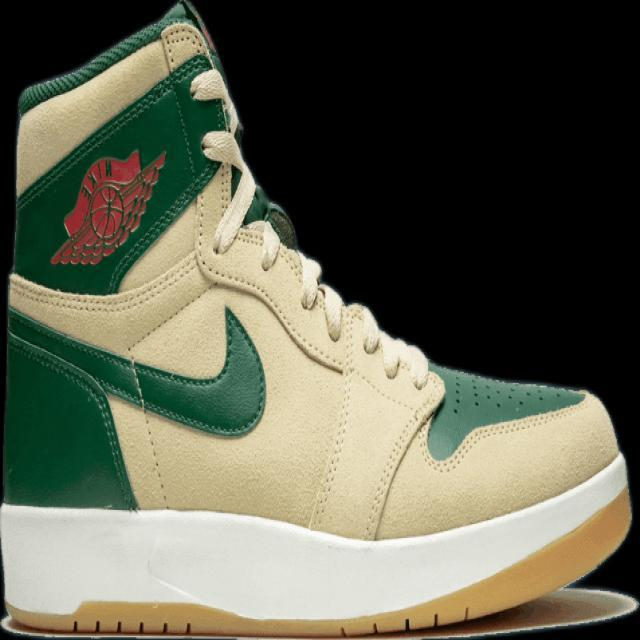J1_InsoleChar: (2, 1, 633, 637)
J1_ShoeLogo: (49, 146, 167, 267)
J1_StitchPattern: (10, 207, 589, 536), (155, 19, 429, 543), (200, 217, 430, 388), (304, 291, 438, 536), (156, 18, 283, 270), (6, 324, 139, 507), (187, 66, 256, 254), (421, 398, 587, 474), (363, 392, 444, 540), (304, 366, 360, 532), (123, 354, 173, 508), (187, 66, 238, 130), (157, 20, 210, 75), (65, 617, 192, 636)
